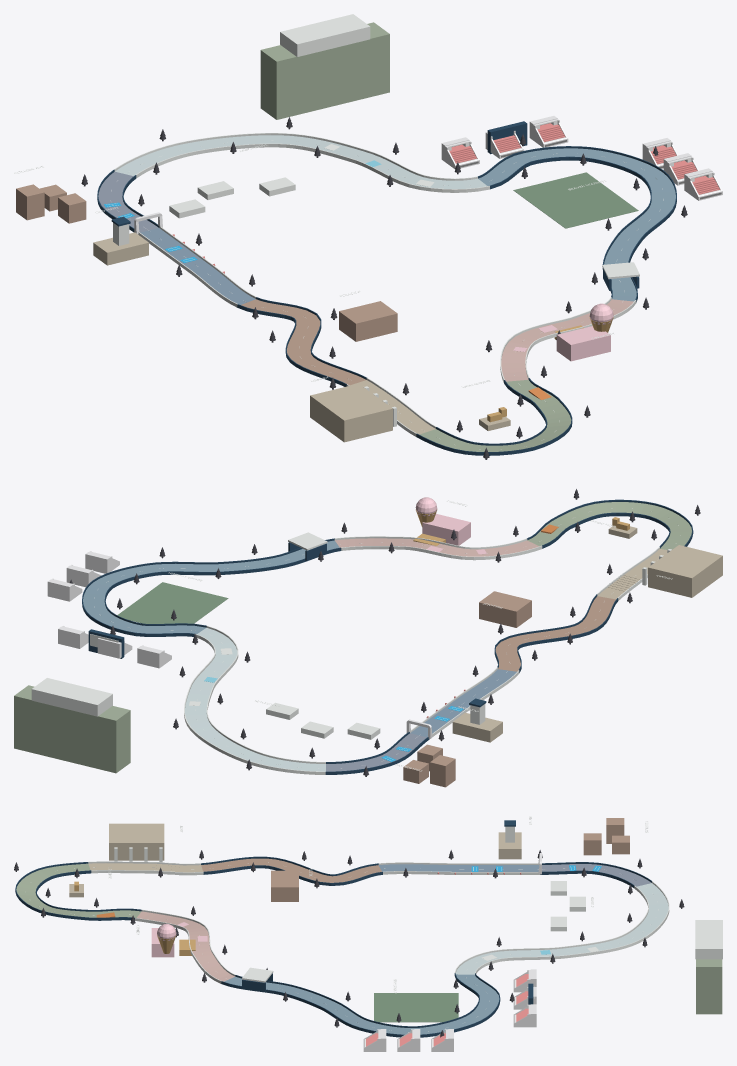
Rendered from happy_valley.glb.
3 renders of one model, top to bottom at view 1: azimuth 30°, elevation 25°; view 2: azimuth 150°, elevation 25°; view 3: azimuth 270°, elevation 25°, orthographic. The views are drawn at different scales.
Visible parts, largest first — view 1: trk_batch_mat_lionshrine, trk_batch_mat_chalk, trk_batch_mat_pollock, trk_batch_mat_library, trk_batch_mat_navy, trk_stadium, prop_stadium_field, trk_arboretum, trk_batch_mat_icecream, trk_batch_colormap.004, trk_creamery, trk_start (+6 smaller); view 2: trk_batch_mat_lionshrine, trk_batch_mat_chalk, trk_batch_mat_navy, trk_batch_mat_pollock, trk_batch_mat_library, trk_stadium, trk_arboretum, prop_stadium_field, trk_batch_colormap.004, trk_creamery, trk_batch_mat_icecream, trk_start (+8 smaller); view 3: trk_batch_mat_chalk, trk_batch_mat_navy, trk_batch_mat_library, trk_batch_mat_pollock, trk_batch_mat_lionshrine, trk_stadium, trk_arboretum, prop_stadium_field, trk_creamery, trk_batch_colormap.004, trk_start, trk_collegeave (+7 smaller).
Part boxes in pixels (<box>): trk_batch_mat_lionshrine: <box>260,22,571,451</box>; trk_batch_mat_chalk: <box>14,14,663,449</box>; trk_batch_mat_pollock: <box>16,184,397,385</box>; trk_batch_mat_library: <box>93,232,510,442</box>; trk_batch_mat_navy: <box>97,121,676,455</box>; trk_stadium: <box>478,148,675,301</box>; prop_stadium_field: <box>513,172,638,228</box>; trk_arboretum: <box>115,135,486,188</box>; trk_batch_mat_icecream: <box>513,303,613,361</box>; trk_batch_colormap.004: <box>81,117,687,459</box>; trk_creamery: <box>501,299,633,381</box>; trk_start: <box>140,228,255,304</box>; trk_batch_mat_lionshrine: <box>14,502,691,773</box>; trk_batch_mat_chalk: <box>31,500,680,774</box>; trk_batch_mat_navy: <box>82,499,693,774</box>; trk_batch_mat_pollock: <box>403,591,615,787</box>; trk_batch_mat_library: <box>452,526,722,742</box>; trk_stadium: <box>83,540,339,634</box>; trk_arboretum: <box>185,627,325,771</box>; prop_stadium_field: <box>117,582,228,623</box>; trk_batch_colormap.004: <box>70,489,700,776</box>; trk_creamery: <box>335,538,538,556</box>; trk_batch_mat_icecream: <box>415,497,486,554</box>; trk_start: <box>410,669,516,737</box>; trk_batch_mat_chalk: <box>39,816,722,1032</box>; trk_batch_mat_navy: <box>15,820,651,1037</box>; trk_batch_mat_library: <box>69,823,521,897</box>; trk_batch_mat_pollock: <box>201,818,629,901</box>; trk_batch_mat_lionshrine: <box>16,863,722,1014</box>; trk_stadium: <box>224,974,499,1034</box>; trk_arboretum: <box>455,883,668,974</box>; prop_stadium_field: <box>374,993,458,1022</box>; trk_creamery: <box>137,911,234,981</box>; trk_batch_colormap.004: <box>14,850,684,1037</box>; trk_start: <box>378,864,539,871</box>; trk_collegeave: <box>542,864,651,886</box>.
Size of the model in its own units: 313 by 39 by 434.
23 materials, 1 textured.
